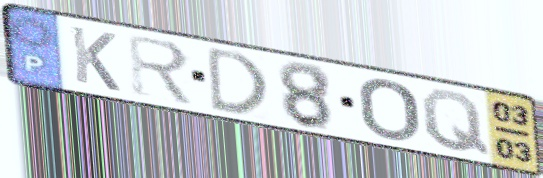8: (276, 59, 337, 133)
D: (204, 43, 270, 117)
K: (67, 23, 123, 95)
O: (355, 77, 422, 143)
Q: (418, 88, 493, 158)
R: (124, 31, 199, 110)
